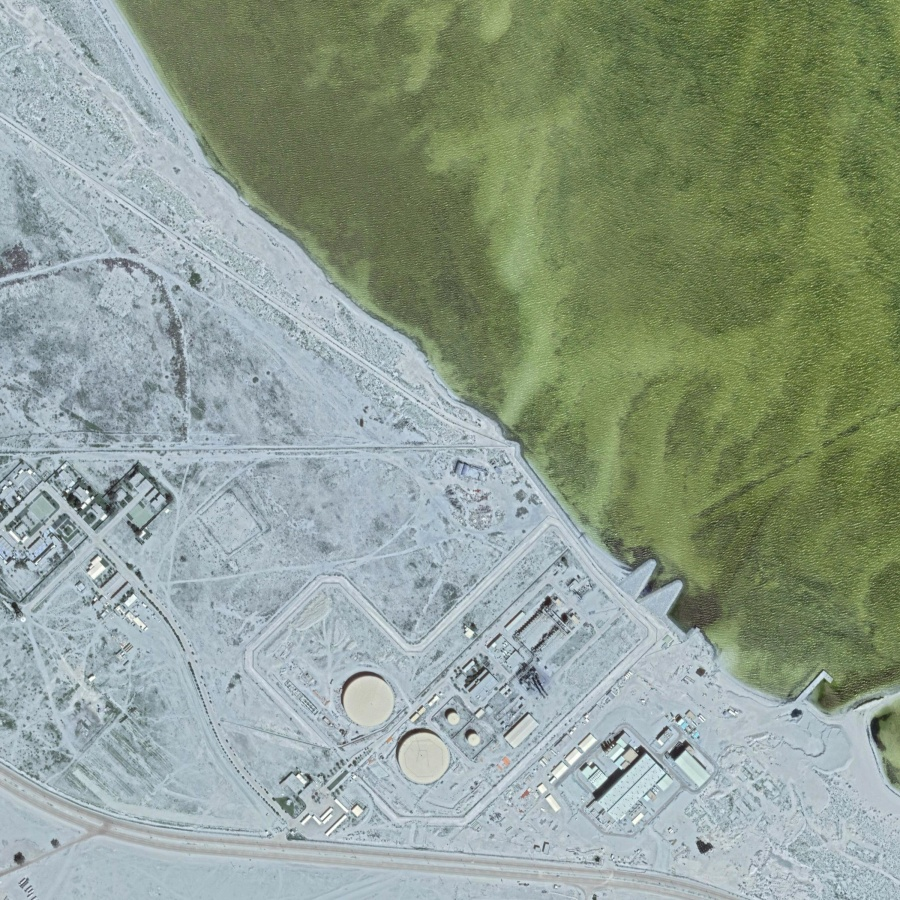PowerPlant: (320, 566, 725, 853)
